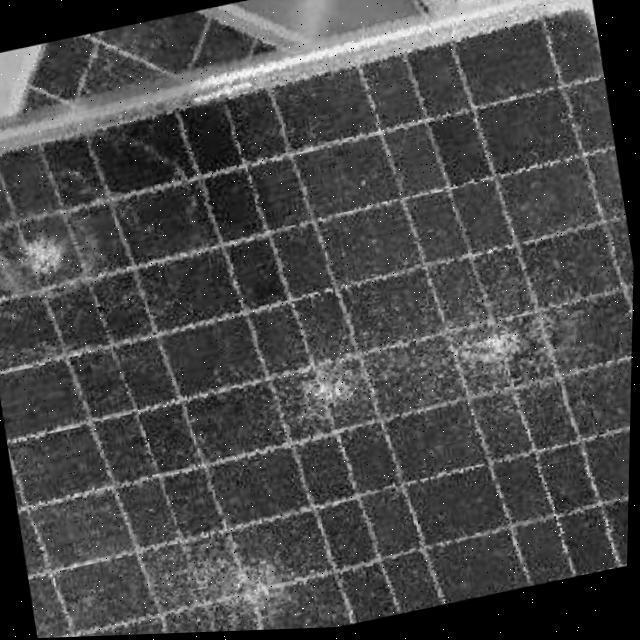Structural Damage: (115, 515, 354, 636), (0, 165, 156, 338), (270, 288, 404, 466), (410, 275, 567, 402)
